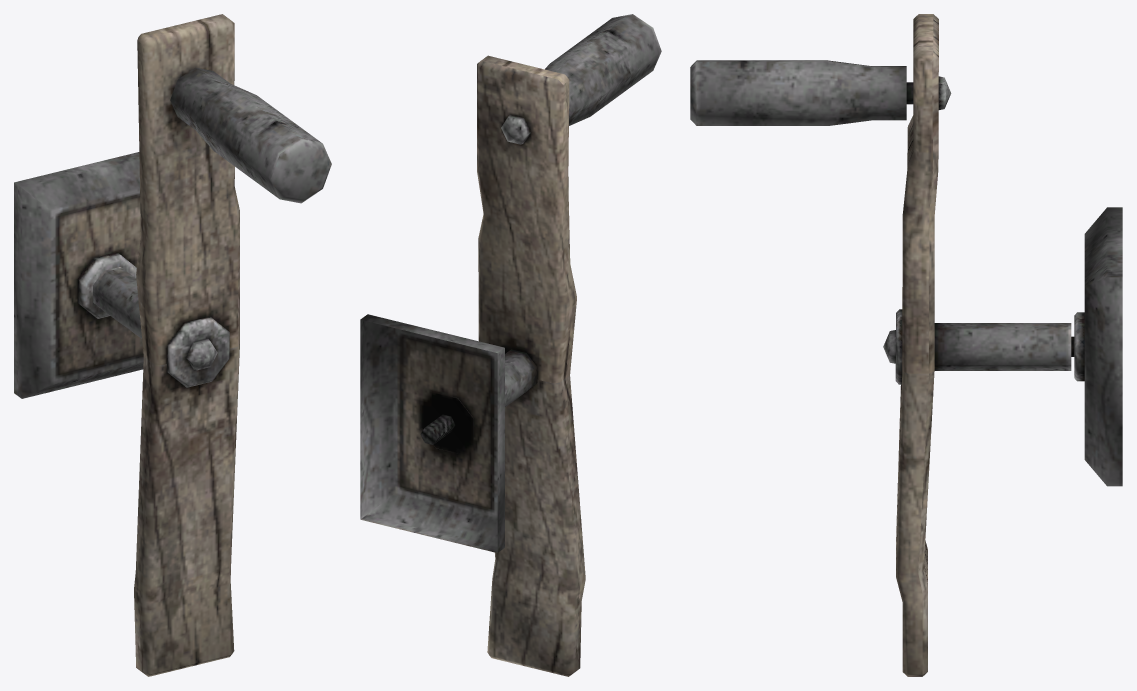
Rendered from crank_wood.dae.
3 renders of one model, left to right at view 1: azimuth 30°, elevation 25°; view 2: azimuth 150°, elevation 25°; view 3: azimuth 270°, elevation 25°, orthographic. The views are drawn at different scales.
Visible parts, largest first — view 1: crank_wood_crank, crank_wood_base; view 2: crank_wood_crank, crank_wood_base; view 3: crank_wood_crank, crank_wood_base.
Part boxes in pixels (box(x1,y1,x2,y2)): crank_wood_crank: box(93, 14, 331, 676); crank_wood_base: box(14, 152, 143, 398); crank_wood_crank: box(420, 14, 661, 676); crank_wood_base: box(360, 314, 504, 552); crank_wood_crank: box(690, 14, 1074, 676); crank_wood_base: box(1074, 207, 1122, 486).
Bounding box in the file's own units: 0.1078 × 0.45 × 0.2815.
